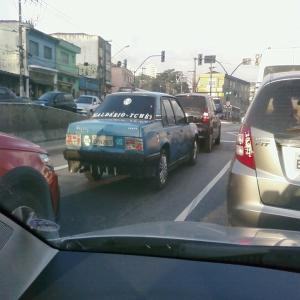Vehicle-registration-plate: (94, 137, 115, 147), (295, 154, 300, 173)
